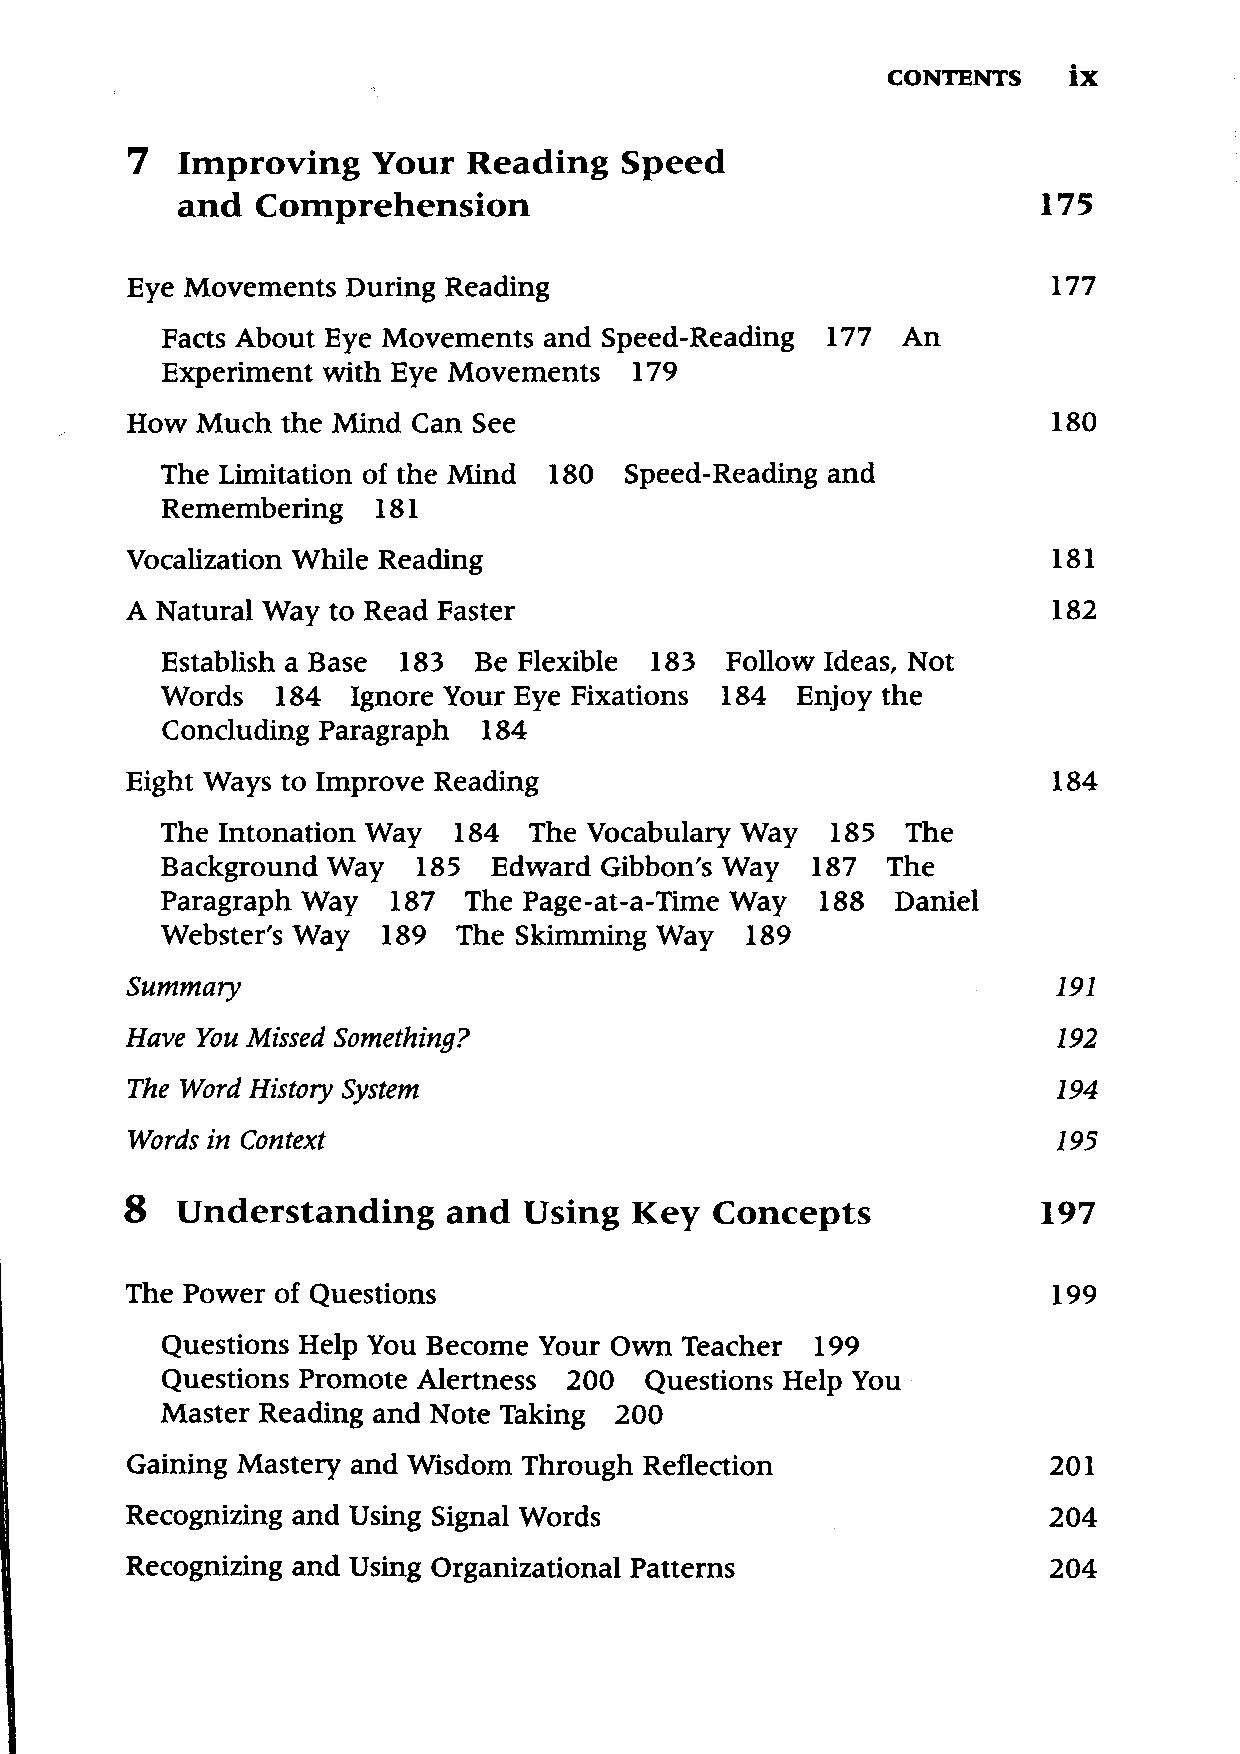TOC_chapter: (107, 760, 985, 957), (121, 1271, 913, 1435), (118, 595, 964, 747), (118, 262, 947, 392), (118, 403, 886, 530), (114, 132, 738, 229), (114, 1180, 878, 1239), (115, 1439, 786, 1492), (115, 1545, 739, 1586), (123, 1495, 605, 1533), (118, 537, 490, 582), (115, 1013, 475, 1053), (123, 1067, 427, 1104), (123, 1118, 327, 1154), (115, 965, 254, 1001)
TOC_pagenumber: (1031, 1186, 1106, 1236), (1036, 178, 1102, 221), (1043, 403, 1111, 440), (1043, 1495, 1104, 1537), (1047, 537, 1104, 580), (1045, 260, 1102, 303), (1045, 1271, 1102, 1312), (1049, 590, 1102, 633), (1049, 1122, 1107, 1159), (1049, 1019, 1108, 1055), (1047, 1070, 1104, 1106), (1045, 764, 1102, 798), (1047, 968, 1099, 1005), (1047, 1550, 1106, 1582), (1045, 1445, 1096, 1479)
